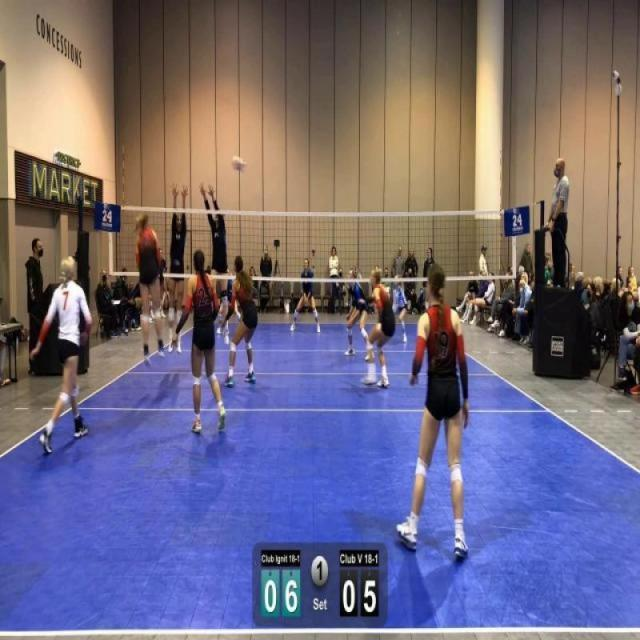volleyball: (231, 152, 247, 174)
